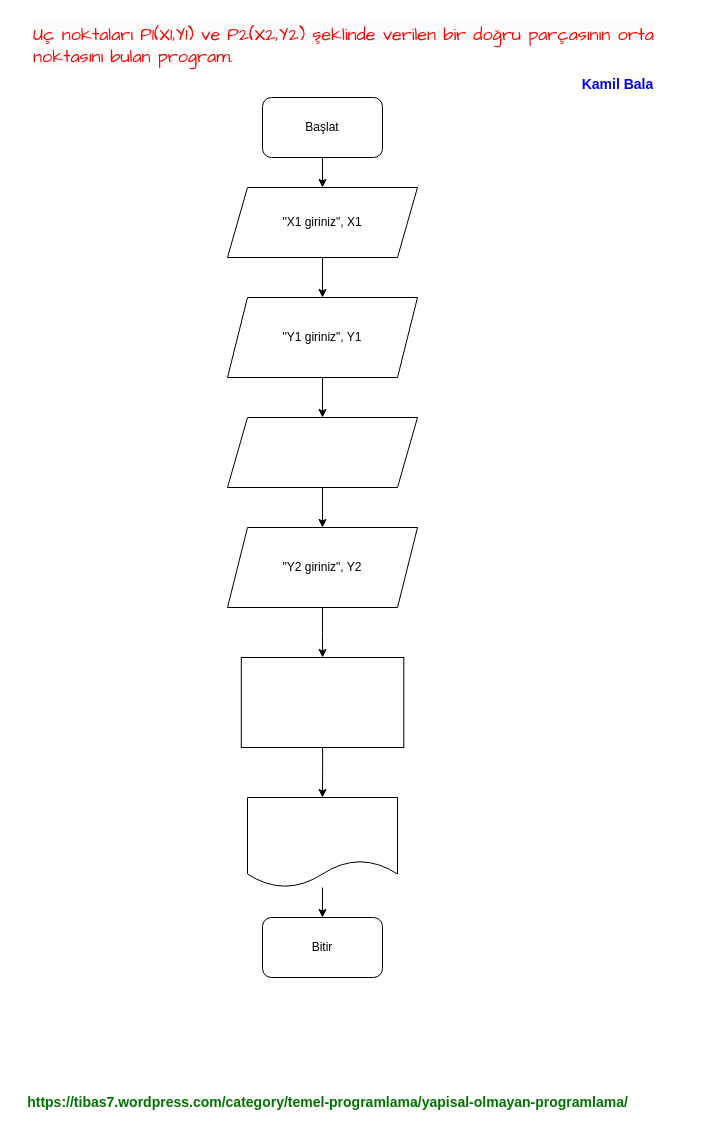
The diagram is 704 pixels wide and 1134 high, and some of its shapes have lost their labels. Here are the shapes that lost their labels. From the top down, the centre of each, then its label:
(322,452): "X2 giriniz", X2
(322,702): Xm=(X1+X2)/2; Ym=(Y1+Y2)/2;
(322,842): Yaz,Xm,Ym
